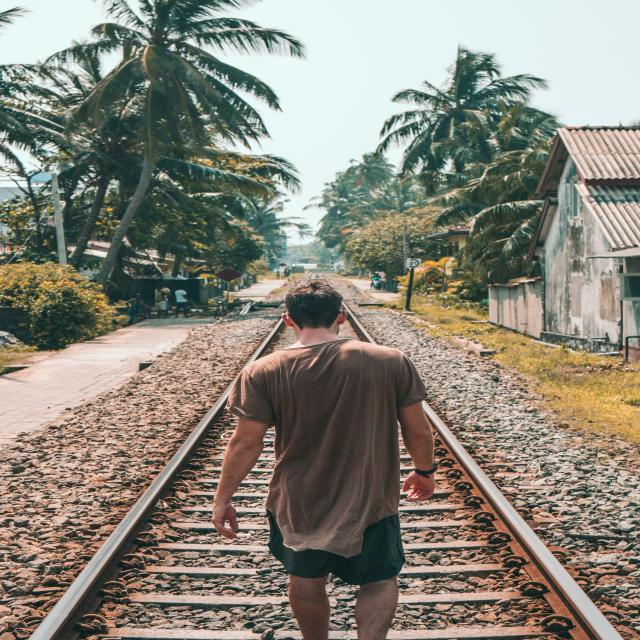adult: (215, 280, 433, 640)
